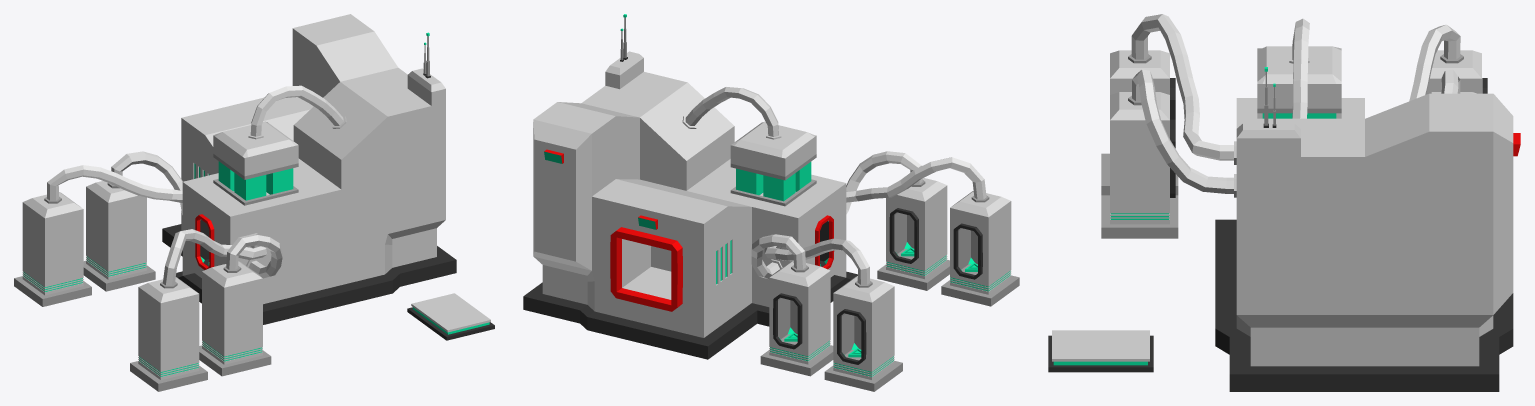
The model's file is Carbon_Compressor.fbx.
3 views of the same model, side by side, from view 1: azimuth 30°, elevation 25°; view 2: azimuth 150°, elevation 25°; view 3: azimuth 270°, elevation 25° (orthographic). The views are drawn at different scales.
Visible parts, largest first — view 1: Carbon_Compressor, Key_Item_Slot.008, Key_Item_Slot.010, Key_Item_Slot.009, Key_Item_Slot.007, Generator_Top, Conversion_Items_Plate, Cable.007, Cable.009, Cable.010, Cable.008, Cable.006; view 2: Carbon_Compressor, Key_Item_Slot.010, Key_Item_Slot.008, Key_Item_Slot.007, Key_Item_Slot.009, Generator_Top, Cable.009, Cable.010, Cable.007, Cable.006, Cable.008; view 3: Carbon_Compressor, Key_Item_Slot.009, Generator_Top, Conversion_Items_Plate, Cable.009, Cable.008, Key_Item_Slot.010, Key_Item_Slot.008, Cable.007, Cable.010, Cable.006.
Part boxes in pixels (x1,y1,x2,y2): Carbon_Compressor: [162, 14, 456, 324]; Key_Item_Slot.008: [14, 192, 91, 306]; Key_Item_Slot.010: [130, 277, 207, 391]; Key_Item_Slot.009: [199, 261, 271, 376]; Key_Item_Slot.007: [83, 181, 155, 291]; Generator_Top: [213, 121, 298, 205]; Conversion_Items_Plate: [407, 293, 494, 340]; Cable.007: [47, 165, 182, 202]; Cable.009: [163, 229, 267, 285]; Cable.010: [250, 85, 343, 136]; Cable.008: [226, 234, 282, 278]; Cable.006: [111, 151, 182, 214]; Carbon_Compressor: [523, 14, 857, 359]; Key_Item_Slot.010: [941, 191, 1019, 306]; Key_Item_Slot.008: [824, 276, 902, 391]; Key_Item_Slot.007: [760, 260, 833, 376]; Key_Item_Slot.009: [877, 178, 949, 290]; Generator_Top: [730, 121, 816, 206]; Cable.009: [846, 157, 986, 202]; Cable.010: [685, 87, 778, 136]; Cable.007: [764, 238, 869, 284]; Cable.006: [751, 234, 805, 279]; Cable.008: [846, 151, 922, 214]; Carbon_Compressor: [1215, 67, 1520, 391]; Key_Item_Slot.009: [1101, 92, 1178, 238]; Generator_Top: [1257, 46, 1341, 118]; Conversion_Items_Plate: [1048, 330, 1153, 372]; Cable.009: [1131, 14, 1233, 160]; Cable.008: [1132, 69, 1233, 193]; Key_Item_Slot.010: [1101, 50, 1178, 195]; Key_Item_Slot.008: [1427, 50, 1487, 93]; Cable.007: [1409, 24, 1460, 101]; Cable.010: [1292, 18, 1309, 118]; Cable.006: [1441, 69, 1460, 93].
Bounding box in the file's own units: 877 × 566 × 771.
